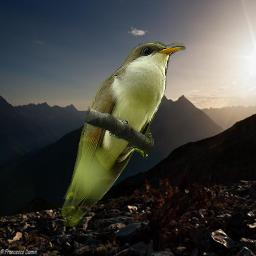Cuckoo: (59, 41, 186, 227)
